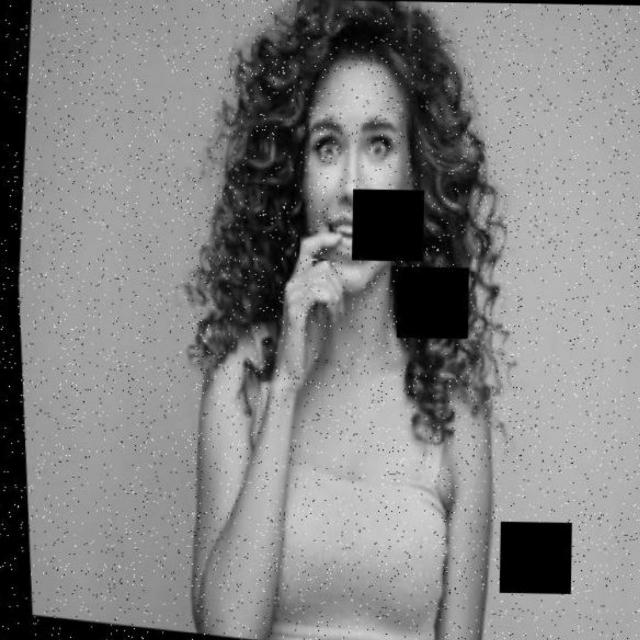Surprised: (276, 40, 438, 312)
